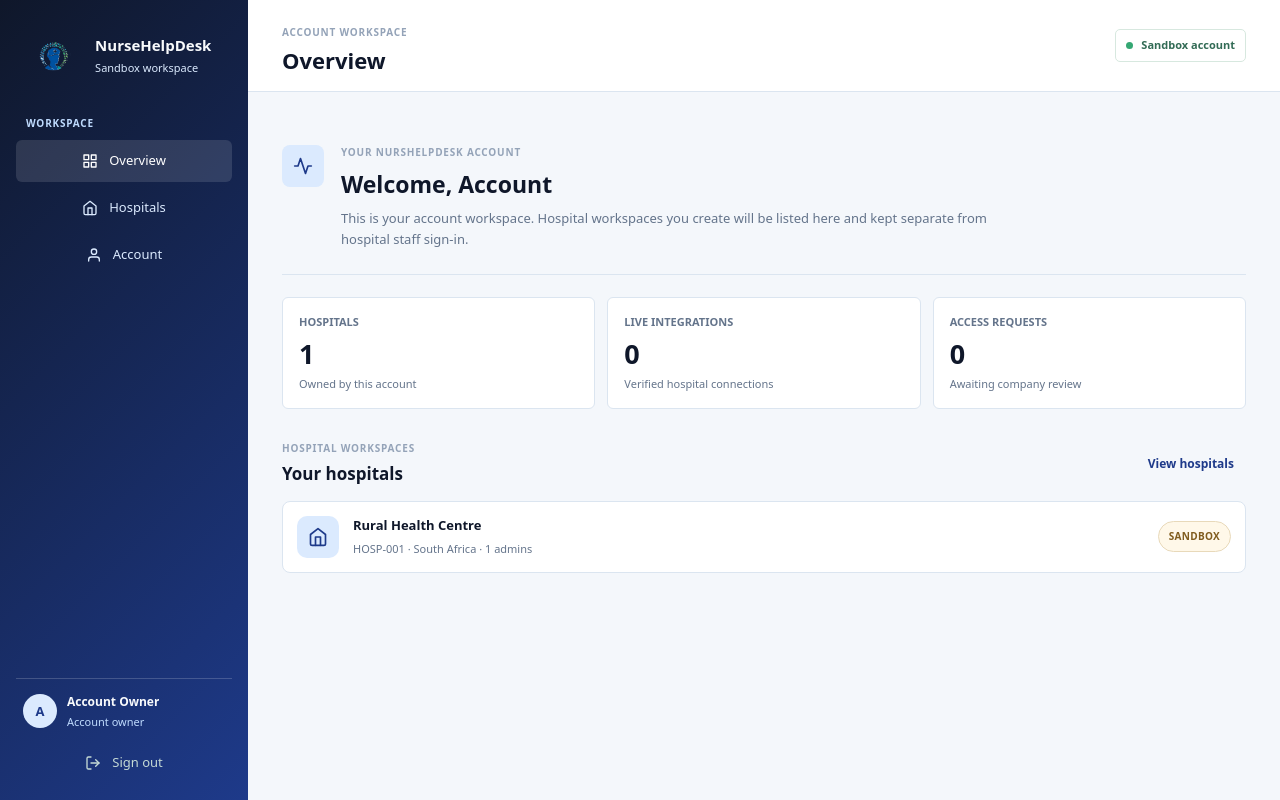
Scenario: sandbox account hospital workspaces › shows the NurseHelpDesk logo and a structured hospital card
This screenshot has width=1280, height=800.
Expected: the picture with alt text "NurseHelpDesk" is shown, [24,25,84,85]
Expected: the text "Rural Health Centre" is shown, [353,516,482,534]
Click the button "Hospitals" at (124, 208), box [16,187,232,229]
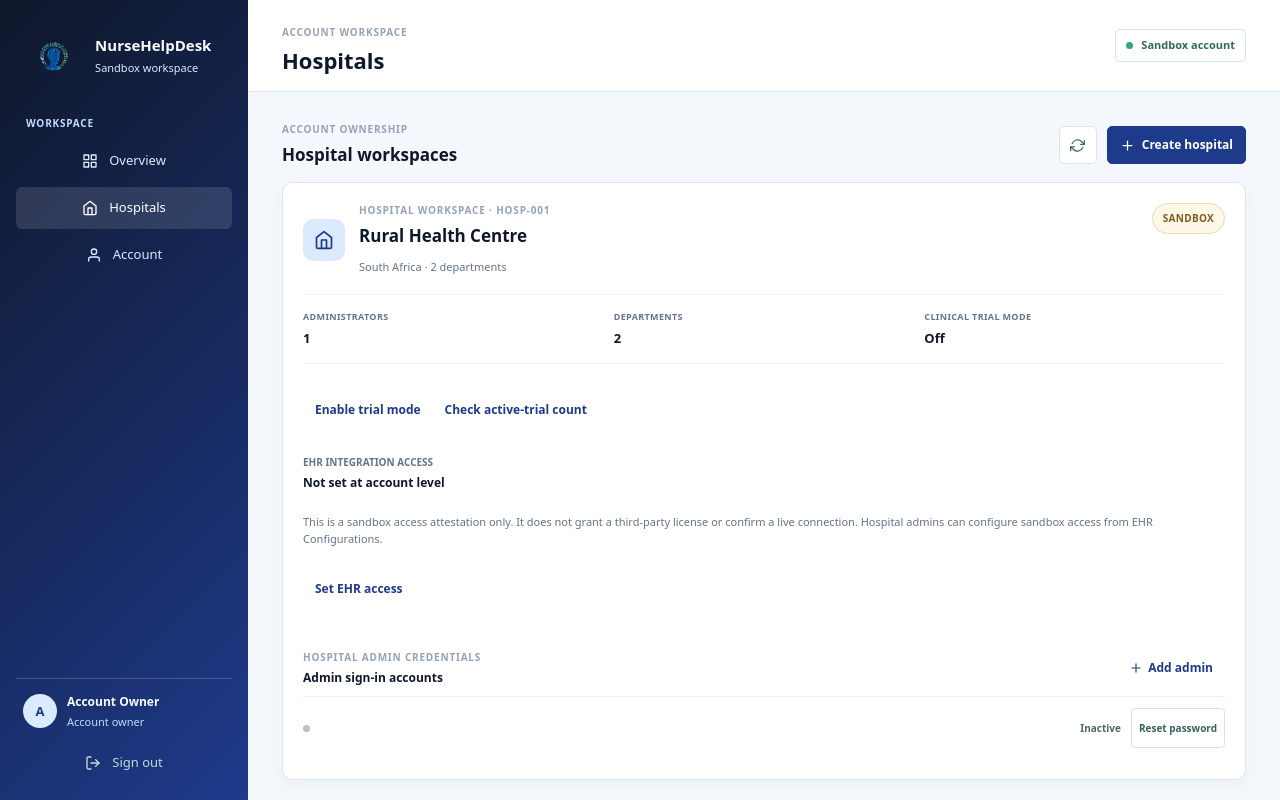
Expected: the text "HOSPITAL WORKSPACE · HOSP-001" is shown, [359,203,550,218]
Expected: the text "Administrators" is shown, [303,310,388,323]
Expected: the text "South Africa · 2 departments" is shown, [359,259,506,274]
